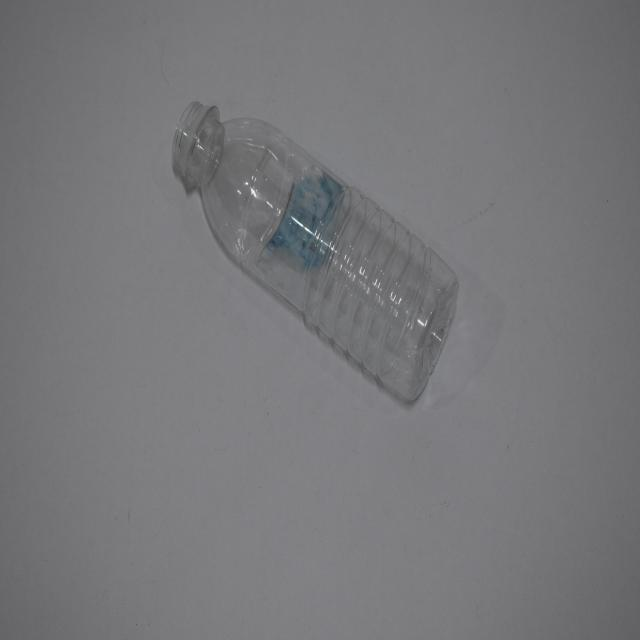bottle: (152, 88, 475, 425)
